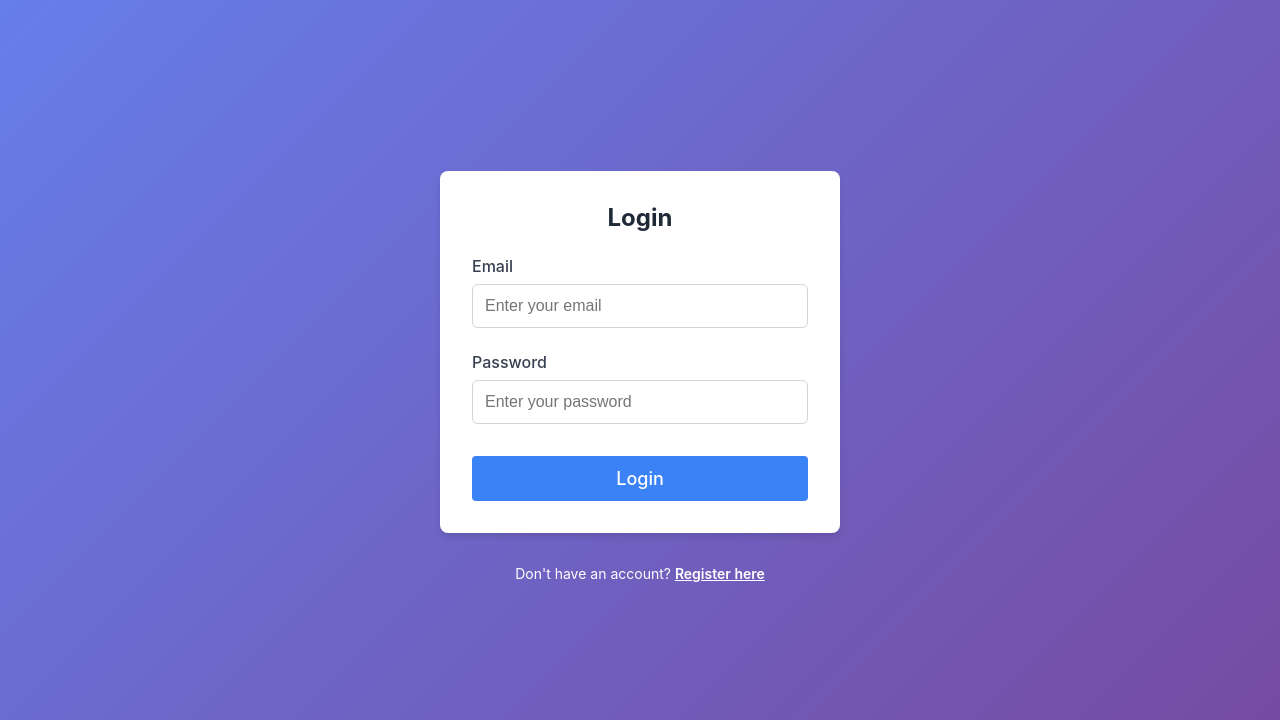
Test: Login Flow › should show error for invalid email format
In the field named "email": (640, 306) [472,284,808,328], type "invalid-email"
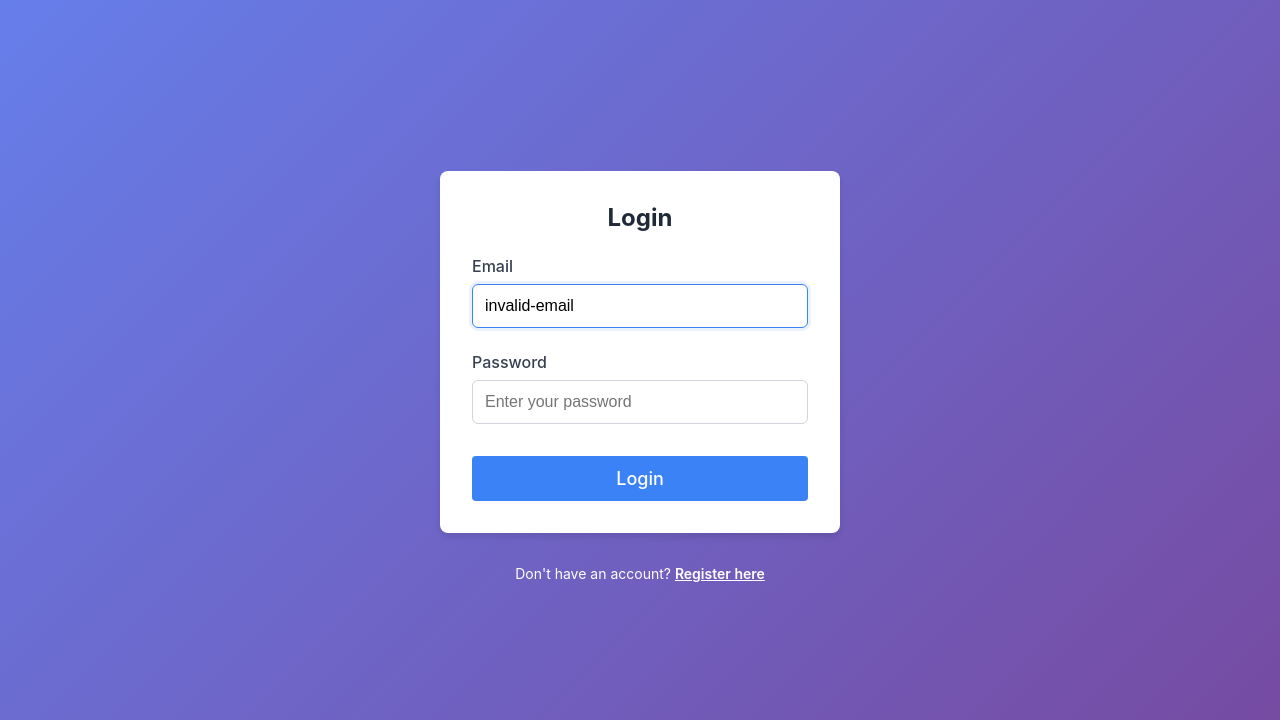
Click the submit button: (640, 479) [472,456,808,501]
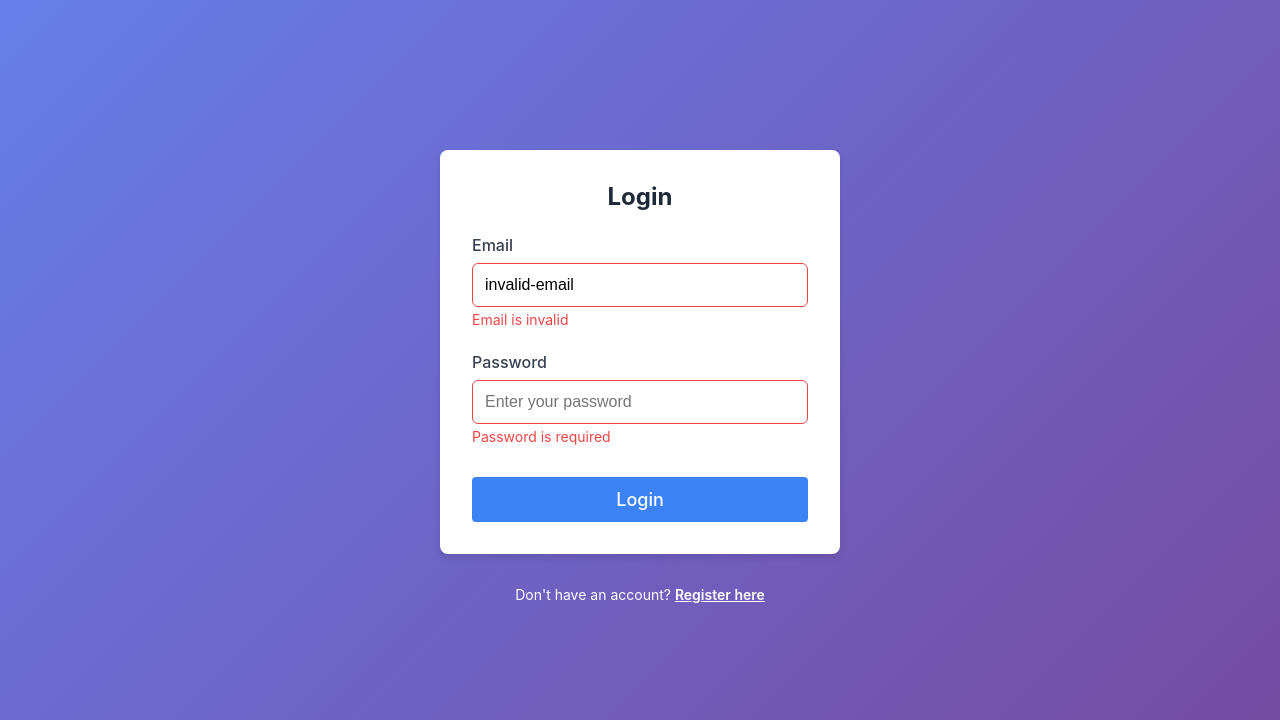
Expected: the text "Email is invalid" is shown, [472,310,568,328]
